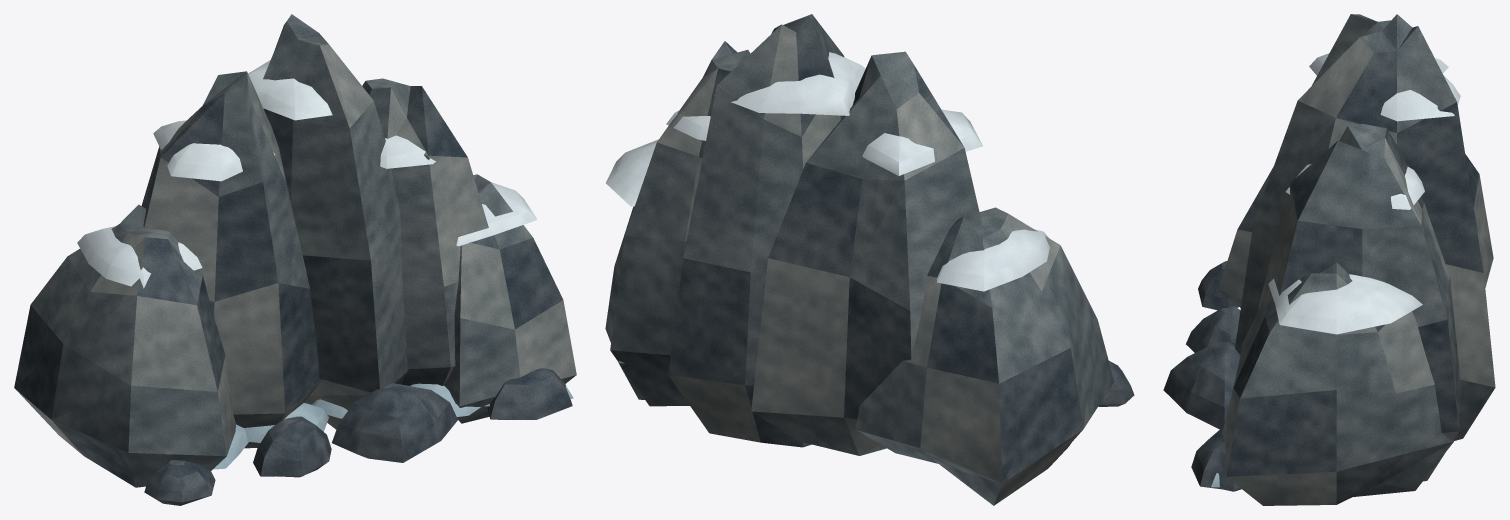
File: 20_Cliff_Section.obj
The picture shows the model from 3 angles, left to right: view 1: azimuth 30°, elevation 25°; view 2: azimuth 150°, elevation 25°; view 3: azimuth 270°, elevation 25°; orthographic projection. The views are drawn at different scales.
Visible parts, largest first — view 1: 20_Cliff_Section; view 2: 20_Cliff_Section; view 3: 20_Cliff_Section.
Part boxes in pixels (left/top/right/bottom): 20_Cliff_Section: left=14, top=14, right=576, bottom=505; 20_Cliff_Section: left=605, top=14, right=1134, bottom=505; 20_Cliff_Section: left=1163, top=14, right=1495, bottom=505.
Bounding box in the file's own units: 4.22 × 3.51 × 2.58.
5 materials, 5 textured.
